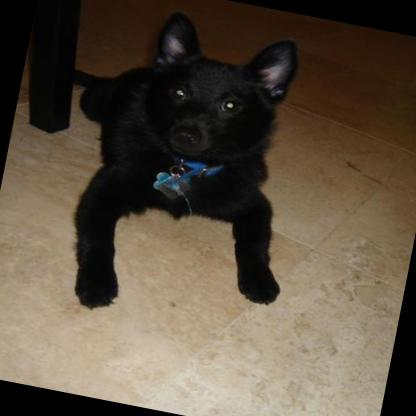schipperke: (0, 0, 327, 340)
